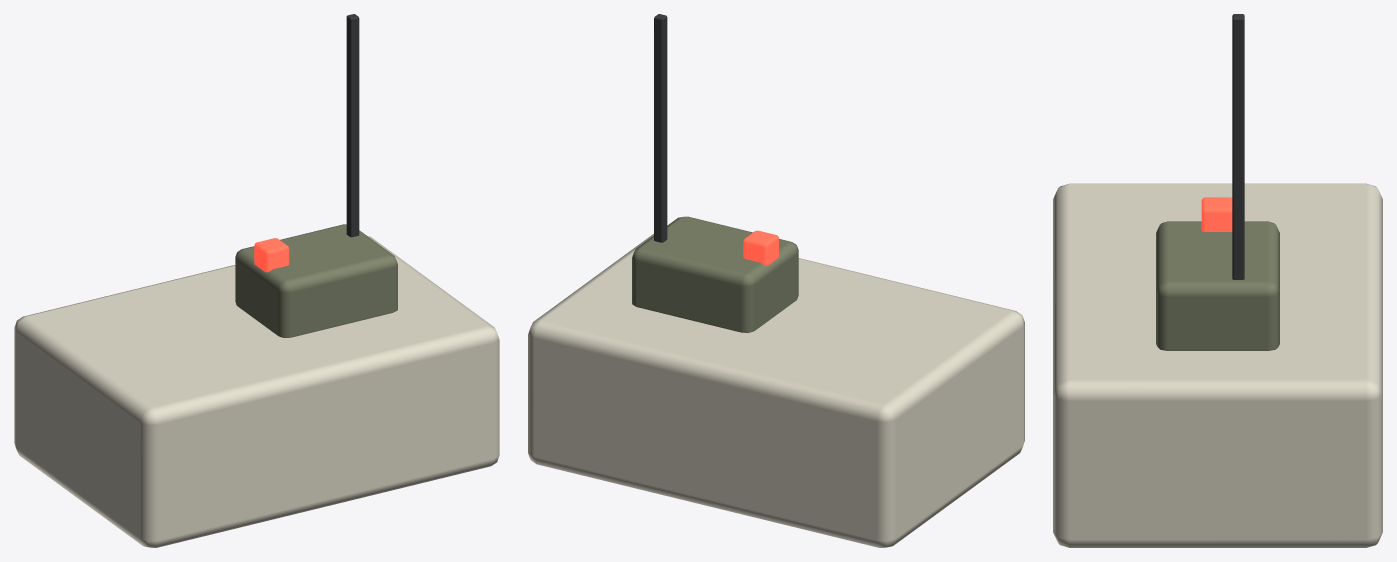
Rendered from breach_charge.glb.
3 views of the same model, side by side, from view 1: azimuth 30°, elevation 25°; view 2: azimuth 150°, elevation 25°; view 3: azimuth 270°, elevation 25° (orthographic). The views are drawn at different scales.
Parts seen in each view (by area): view 1: Block, Detonator, Antenna, Light; view 2: Block, Detonator, Antenna, Light; view 3: Block, Detonator, Antenna, Light.
Boxes of the visible parts, box(x1,y1,x2,y2) form: Block: box(14, 236, 499, 547); Detonator: box(235, 224, 397, 337); Antenna: box(346, 14, 359, 237); Light: box(254, 238, 289, 272); Block: box(528, 234, 1024, 547); Detonator: box(632, 216, 798, 332); Antenna: box(654, 14, 667, 242); Light: box(743, 230, 778, 265); Block: box(1053, 183, 1382, 547); Detonator: box(1156, 221, 1279, 350); Antenna: box(1232, 14, 1244, 279); Light: box(1201, 197, 1232, 231).
Bounding box in the file's own units: 0.12 × 0.1325 × 0.08.
